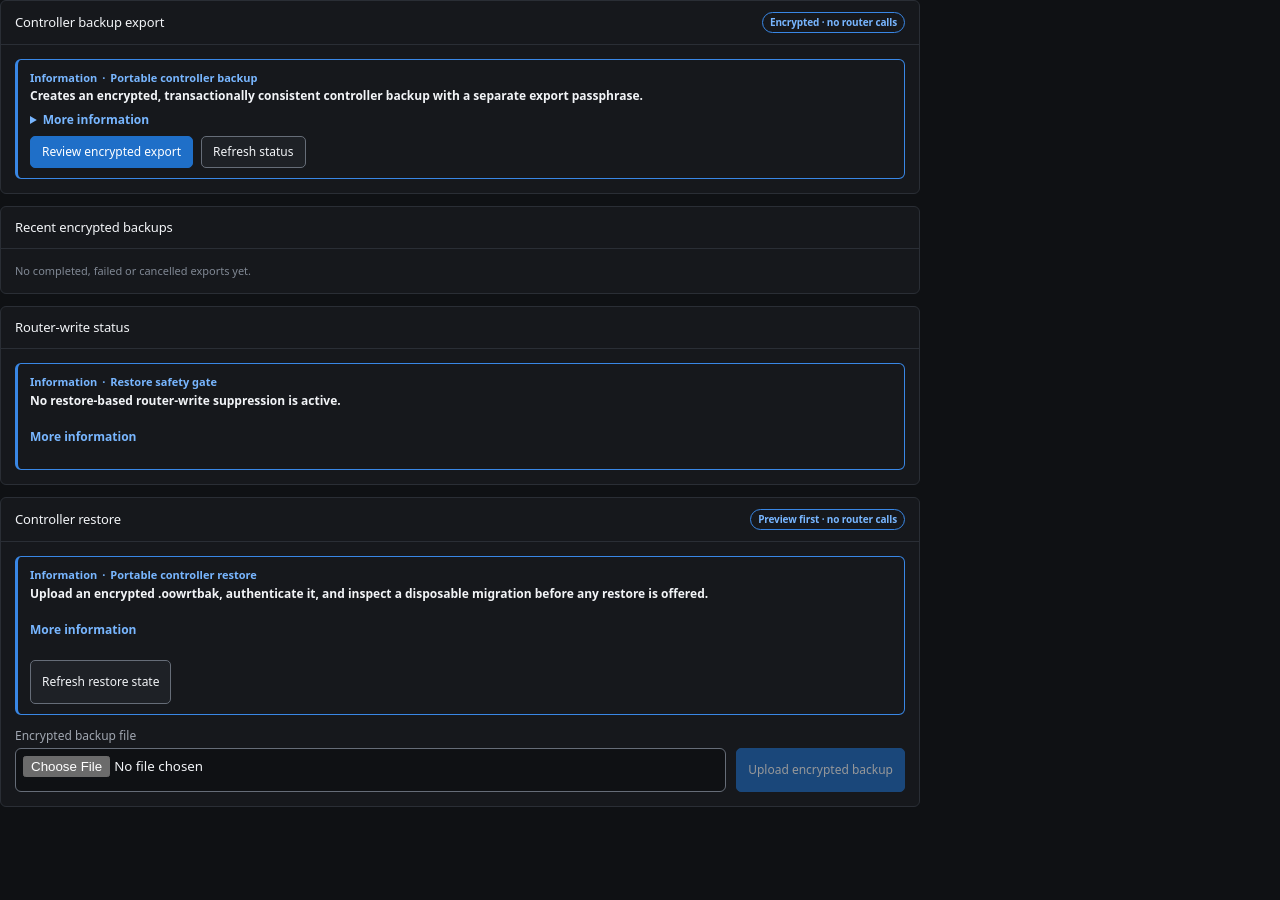
Backups › clears a mismatched passphrase pair without sending it
Click the button "Review encrypted export" at (112, 152), box [30,136,193,168]
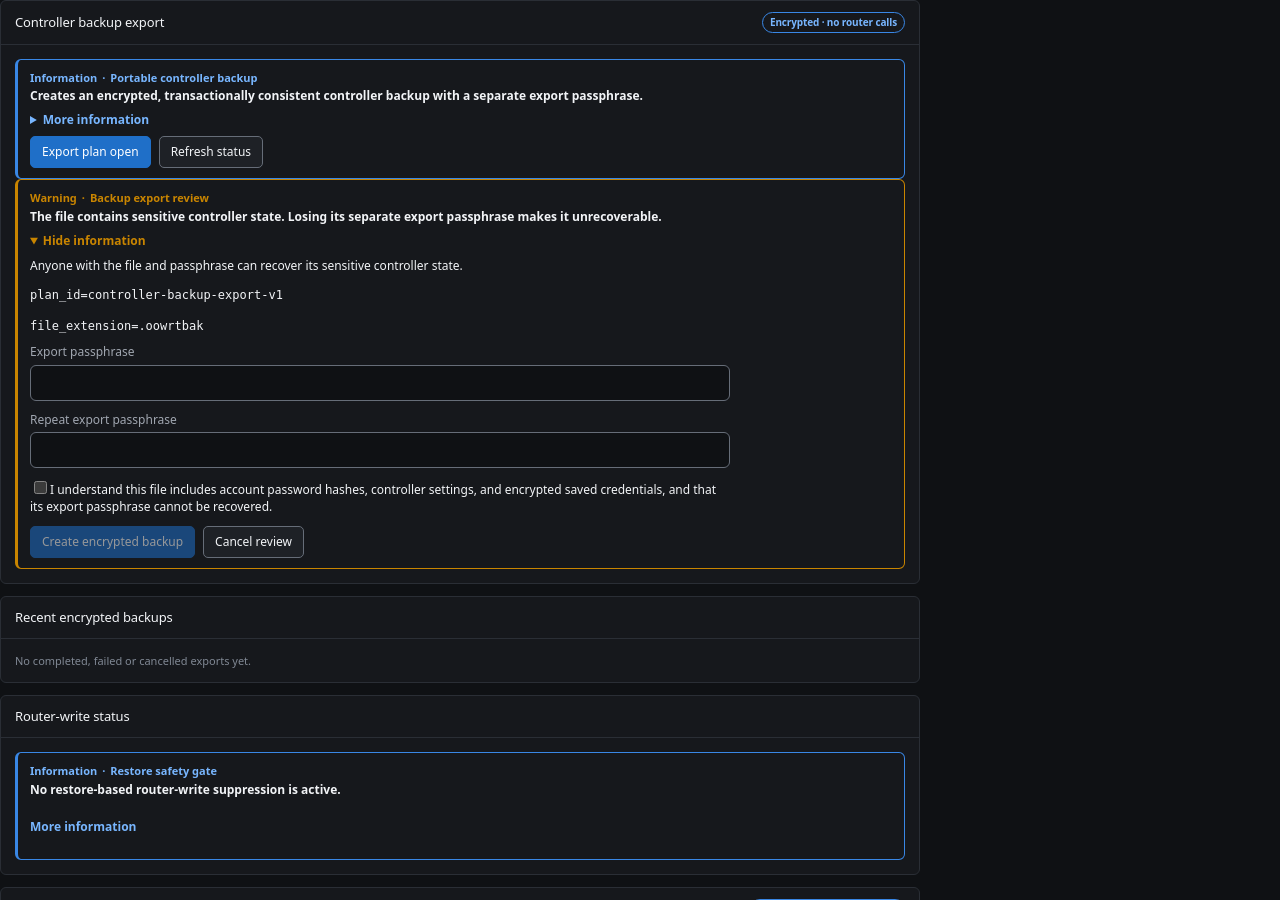
Type "separate export passphrase" into the password field labelled "Export passphrase" at (380, 382), box [30,364,730,400]
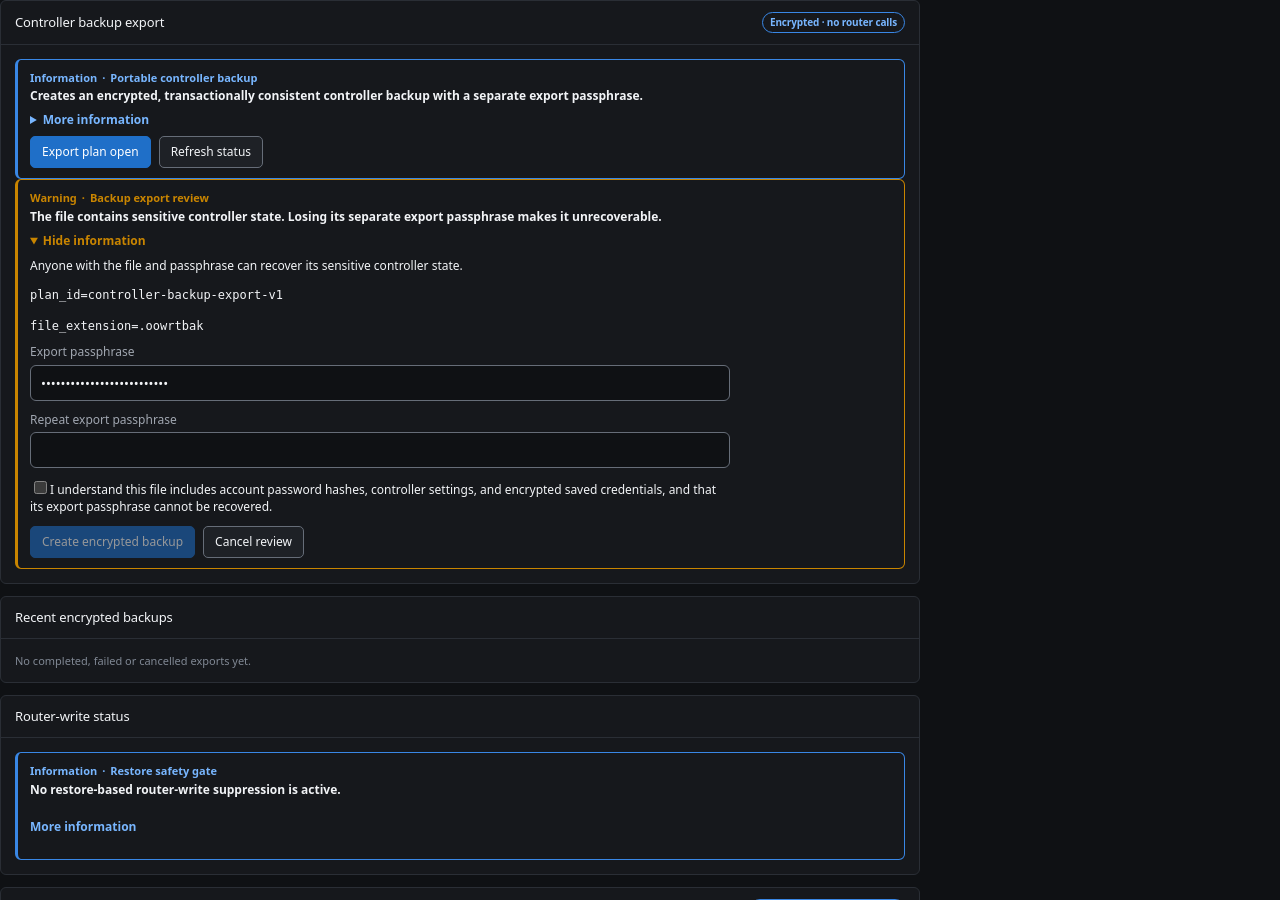
Type "different export passphrase" into the password field labelled "Repeat export passphrase" at (380, 450), box [30,432,730,468]
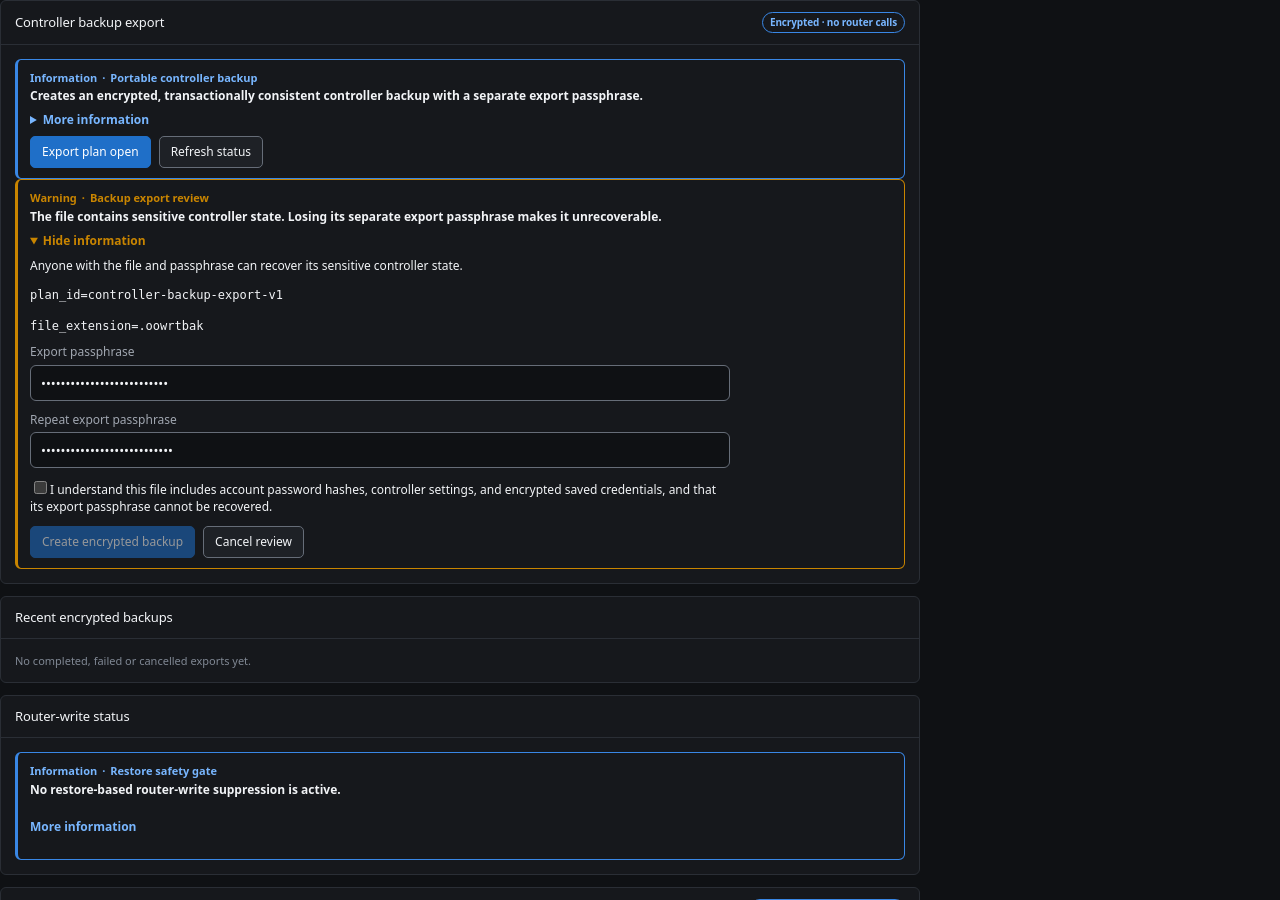
Click the checkbox at (40, 487), box [34,481,47,494]
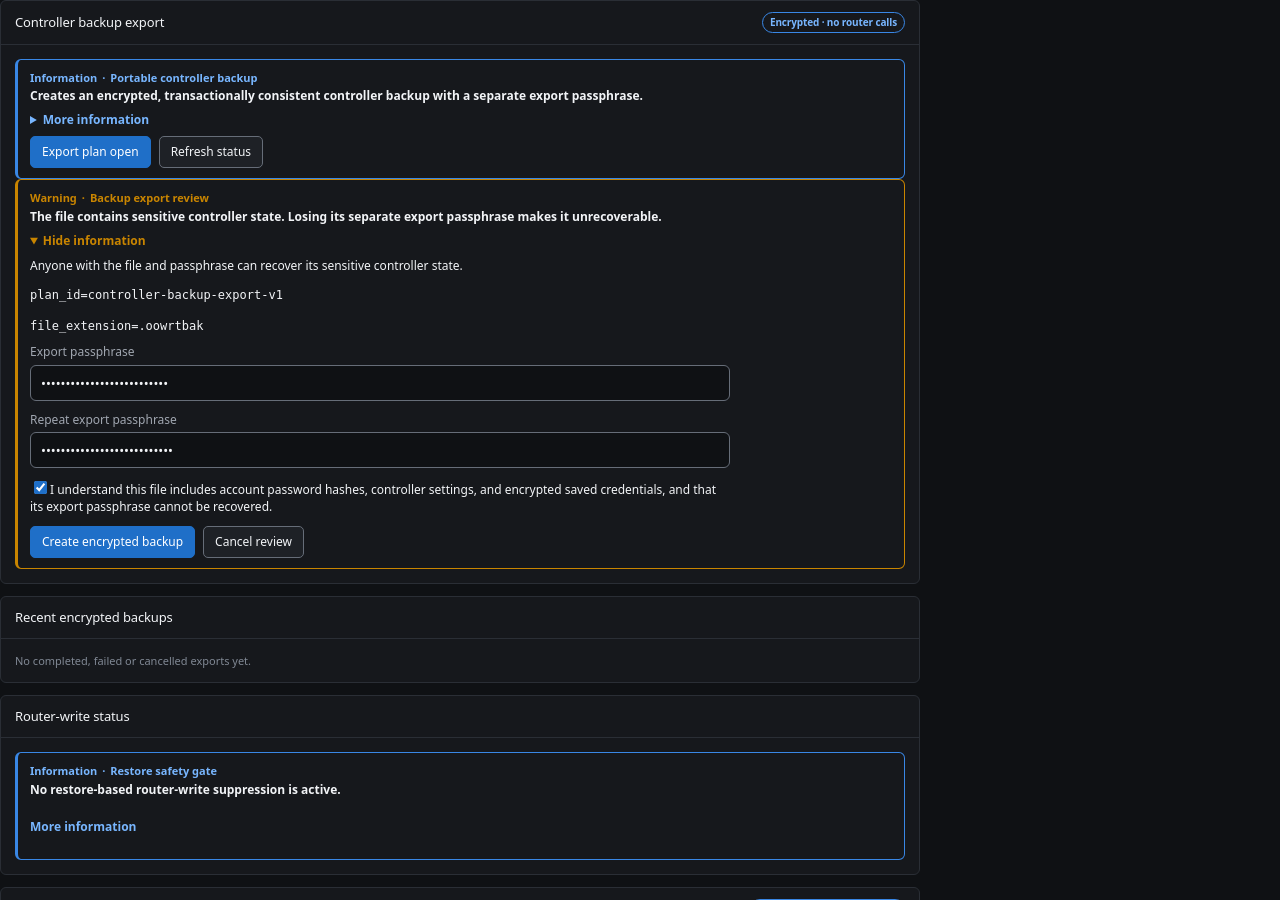
Submit the form labelled "Export passphrase", box [30,343,730,558]
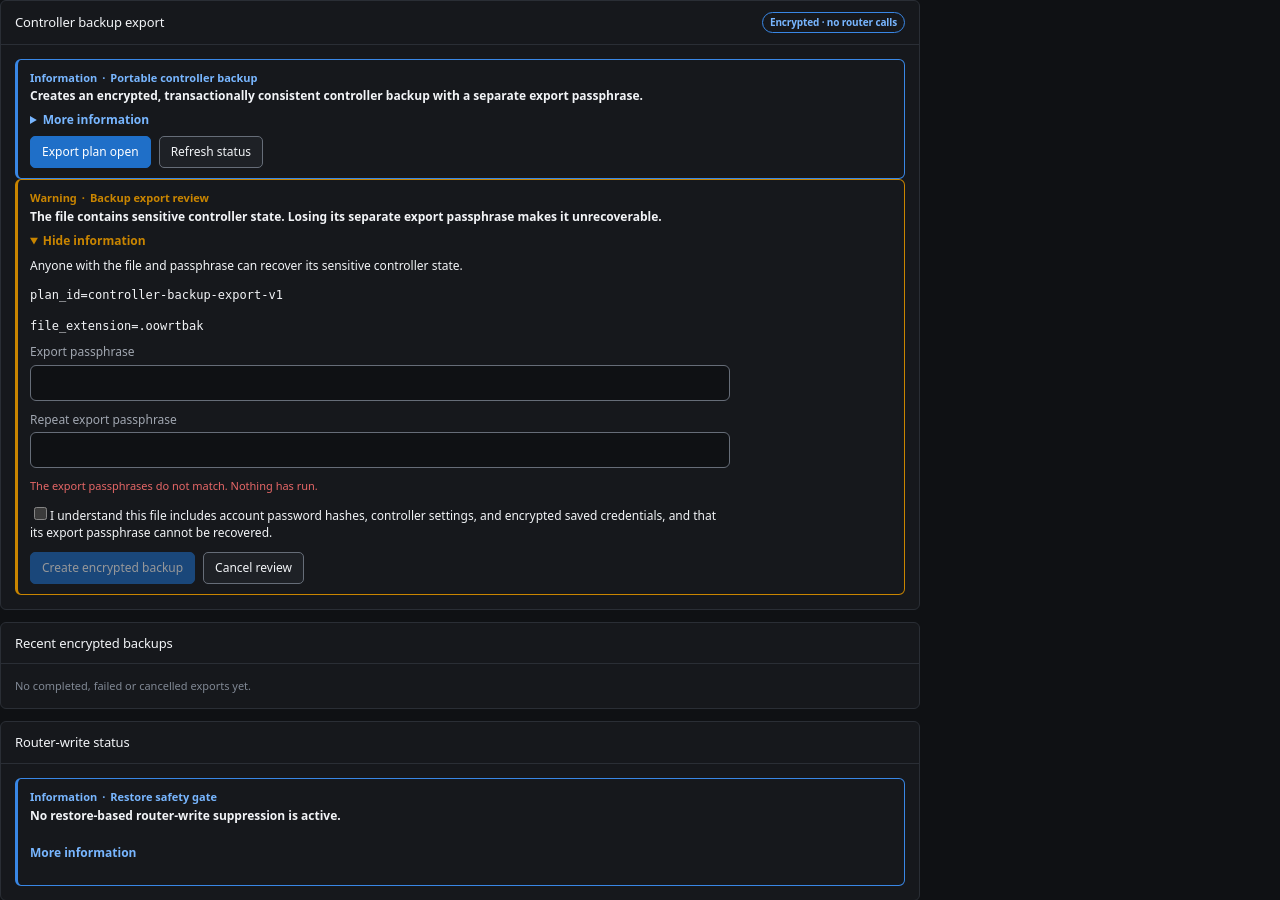
Check: the message shows "do not match", box [30,478,318,493]
Check: the password field labelled "Export passphrase" is empty, box [30,364,730,400]
Check: the password field labelled "Repeat export passphrase" is empty, box [30,432,730,468]
